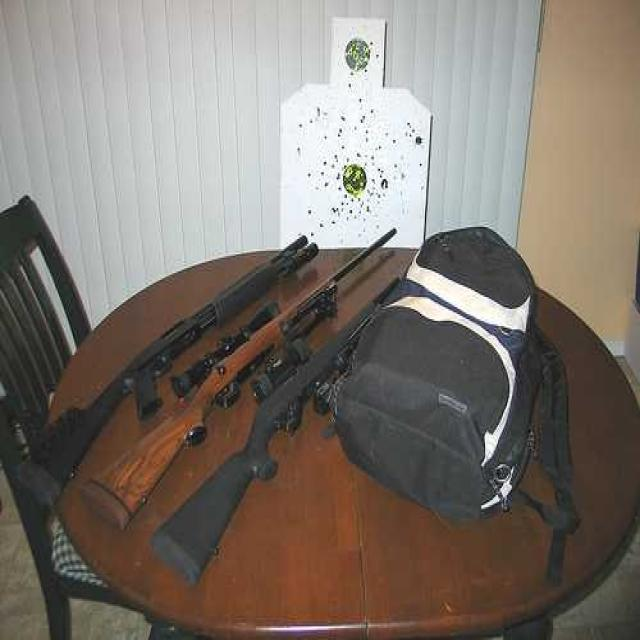heavyweapon: (81, 214, 428, 525), (1, 213, 338, 510), (149, 267, 412, 607)
